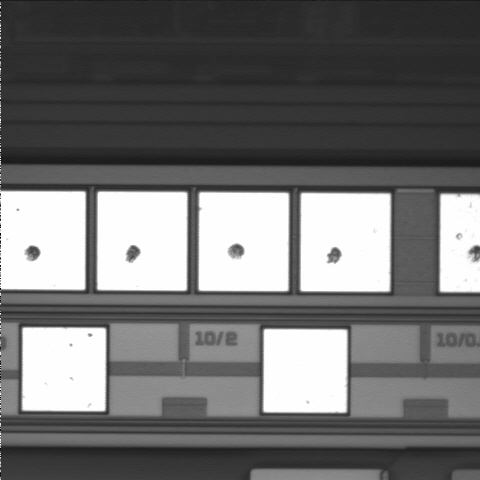pad: (97, 192, 187, 291), (199, 192, 289, 291), (301, 193, 391, 291), (263, 329, 347, 413), (22, 328, 106, 411)
